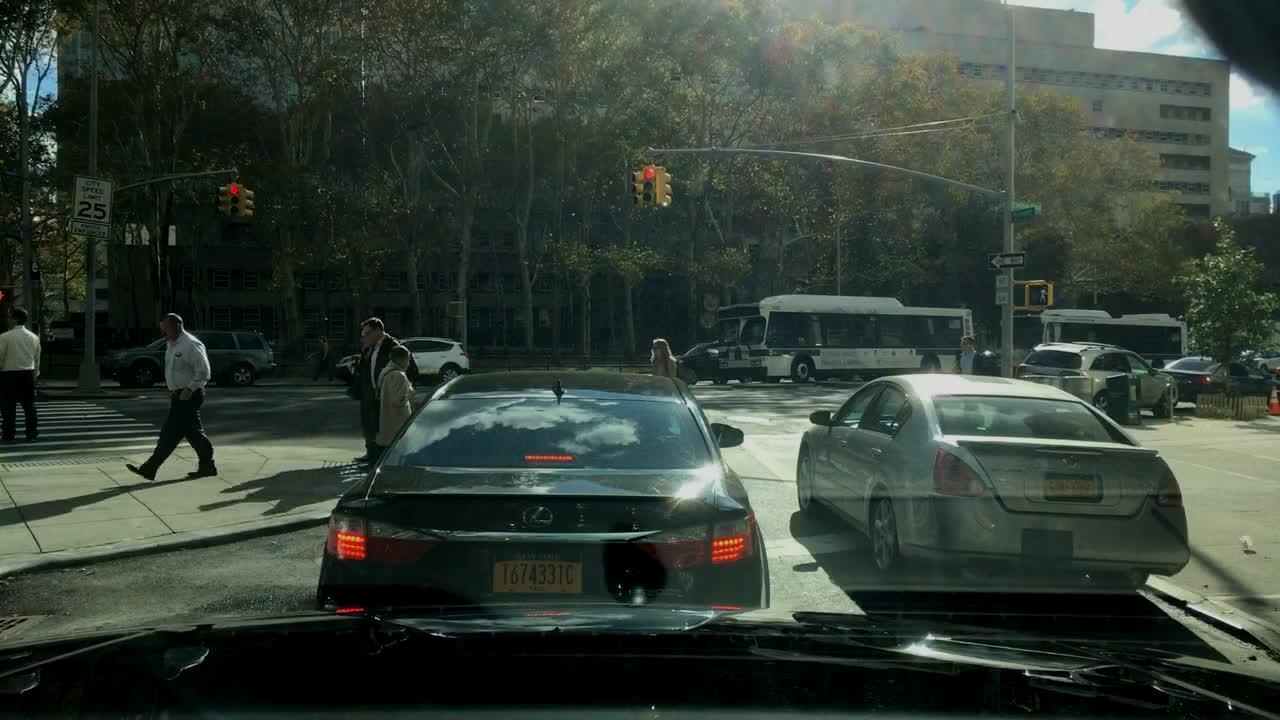lexus: (515, 498, 562, 532)
